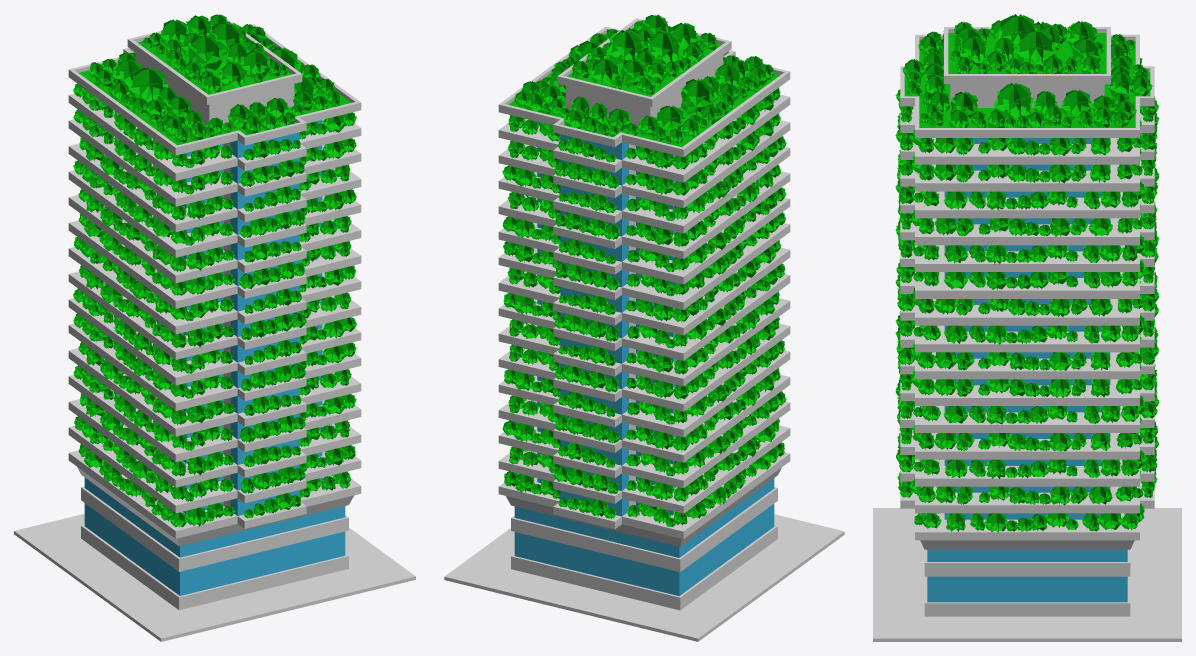
The model's file is Chroma Skyscraper F.fbx.
The picture shows the model from 3 angles, left to right: view 1: azimuth 30°, elevation 25°; view 2: azimuth 150°, elevation 25°; view 3: azimuth 270°, elevation 25°; orthographic projection. The views are drawn at different scales.
Parts seen in each view (by area): view 1: Cube.001, Cube, Ground; view 2: Cube.001, Cube, Ground; view 3: Cube.001, Ground, Cube.
Part boxes in pixels (x1,y1,x2,y2): Cube.001: (68,14,361,538); Cube: (77,467,353,610); Ground: (14,514,415,641); Cube.001: (498,14,790,539); Cube: (506,467,781,610); Ground: (444,514,844,641); Cube.001: (895,14,1159,540); Ground: (873,508,1181,641); Cube: (920,540,1134,616).
Size of the model in its own units: 1200 by 2370 by 1200.
